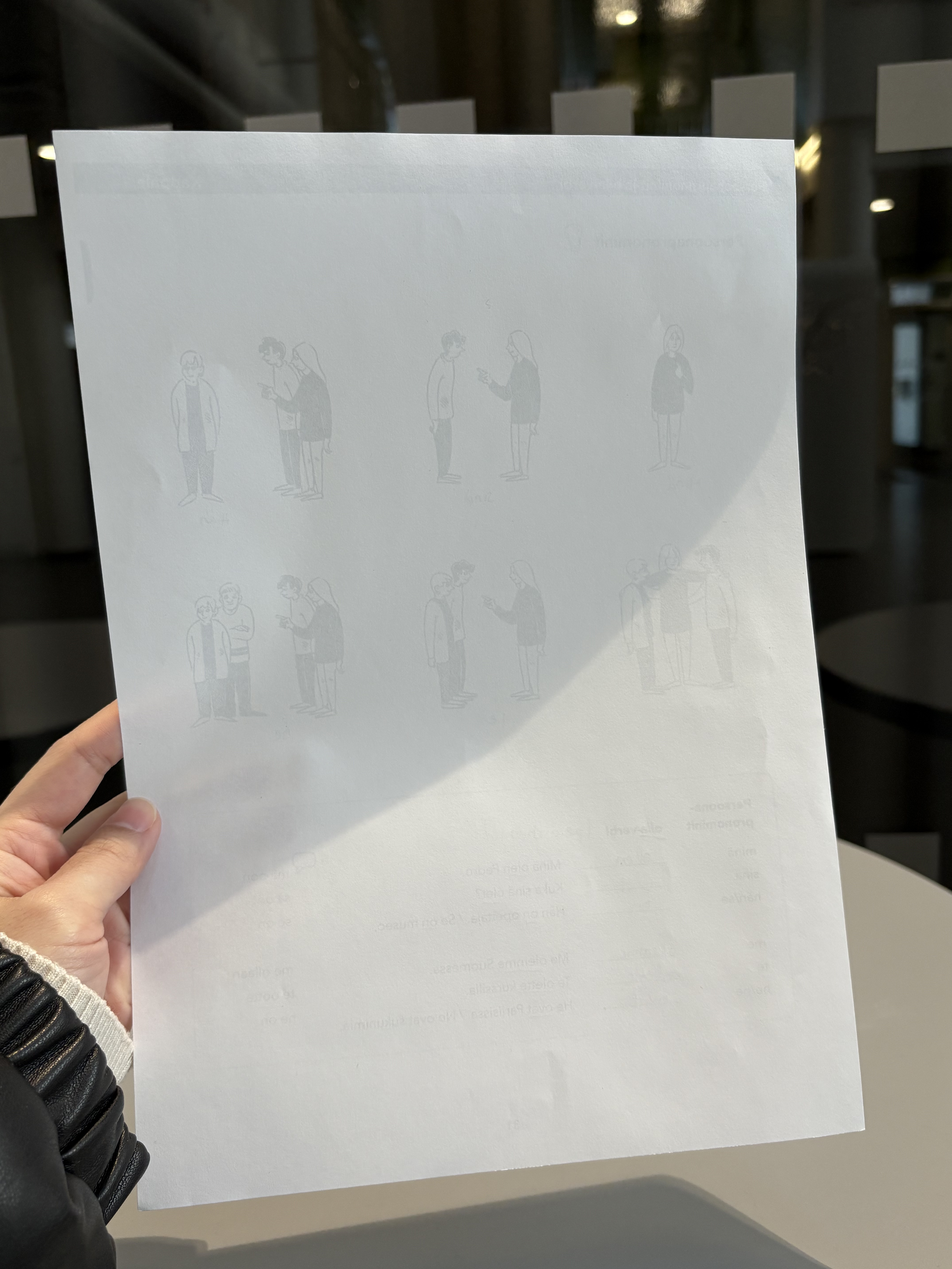paper: (45, 131, 865, 1209)
